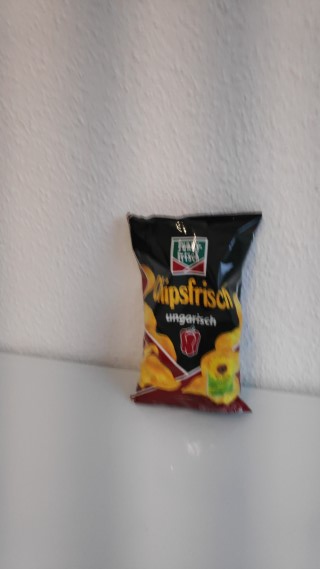chipsfrisch: (124, 209, 264, 417)
